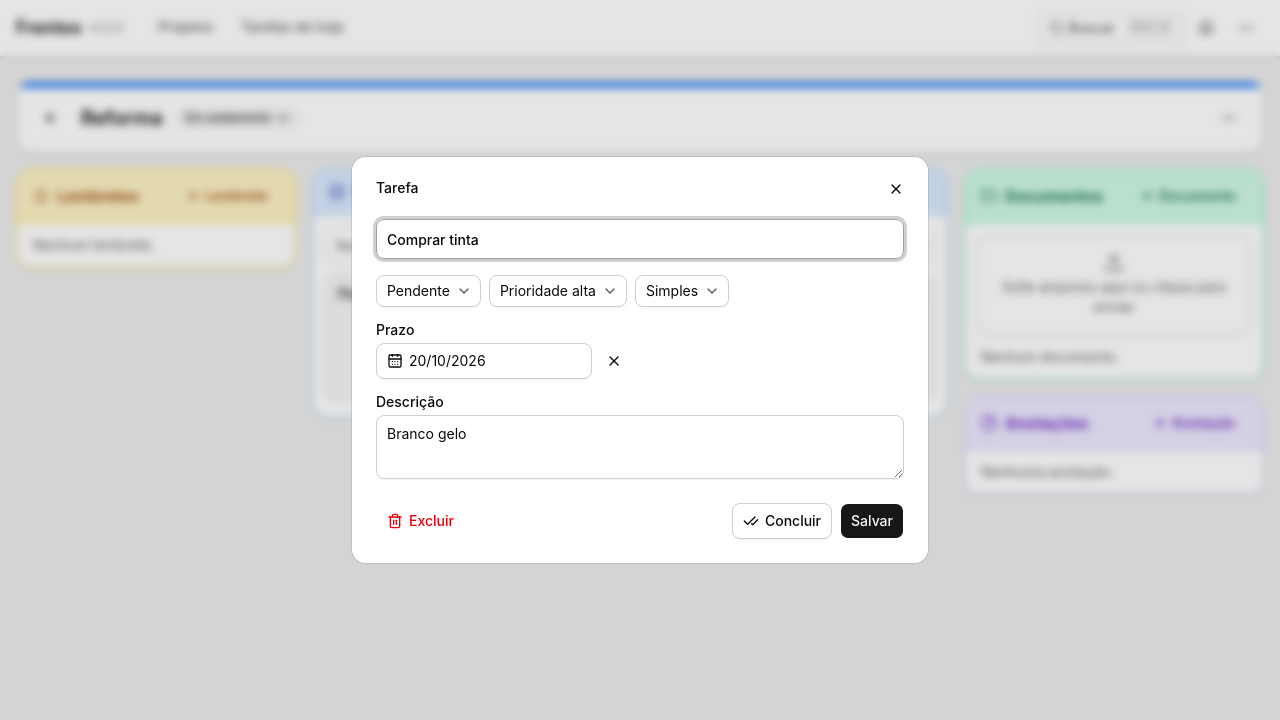
Test case: ModalTarefa (01 §4.5) › RN-20: título vazio mostra o erro e não envia; 422 da API vai para o campo
Clear the field named "Título": (640, 239) top-left (376, 219), bottom-right (904, 259)
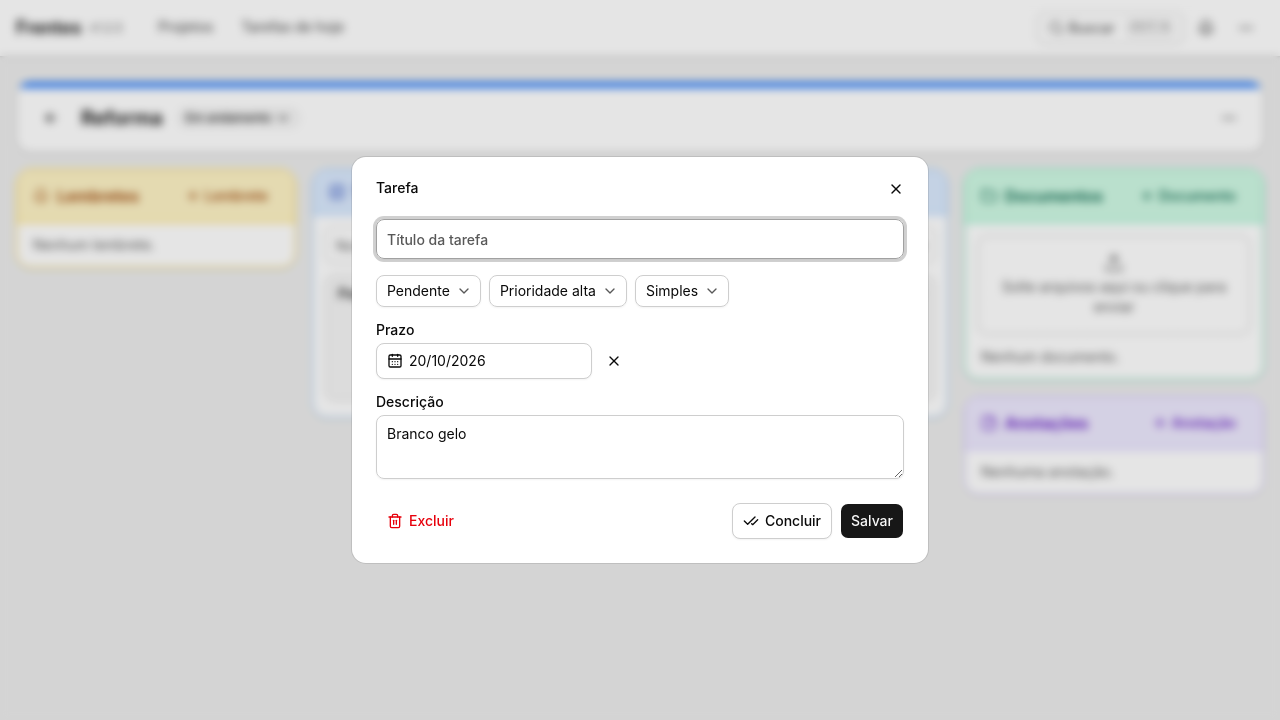
Click the button "Salvar": (872, 521) top-left (840, 503), bottom-right (904, 539)
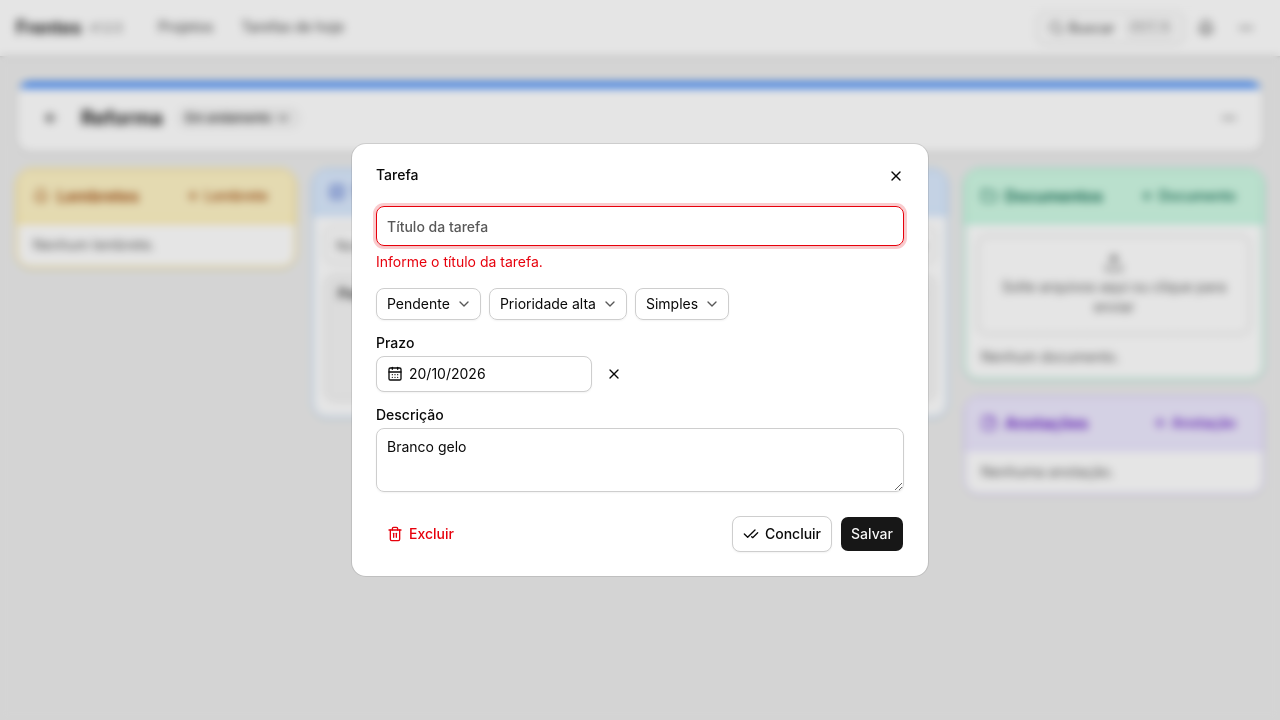
Now the text "Informe o título da tarefa." is shown, box top-left (376, 253), bottom-right (543, 270)
In the field labelled "Título": (640, 226) top-left (376, 206), bottom-right (904, 246), type "Outro"
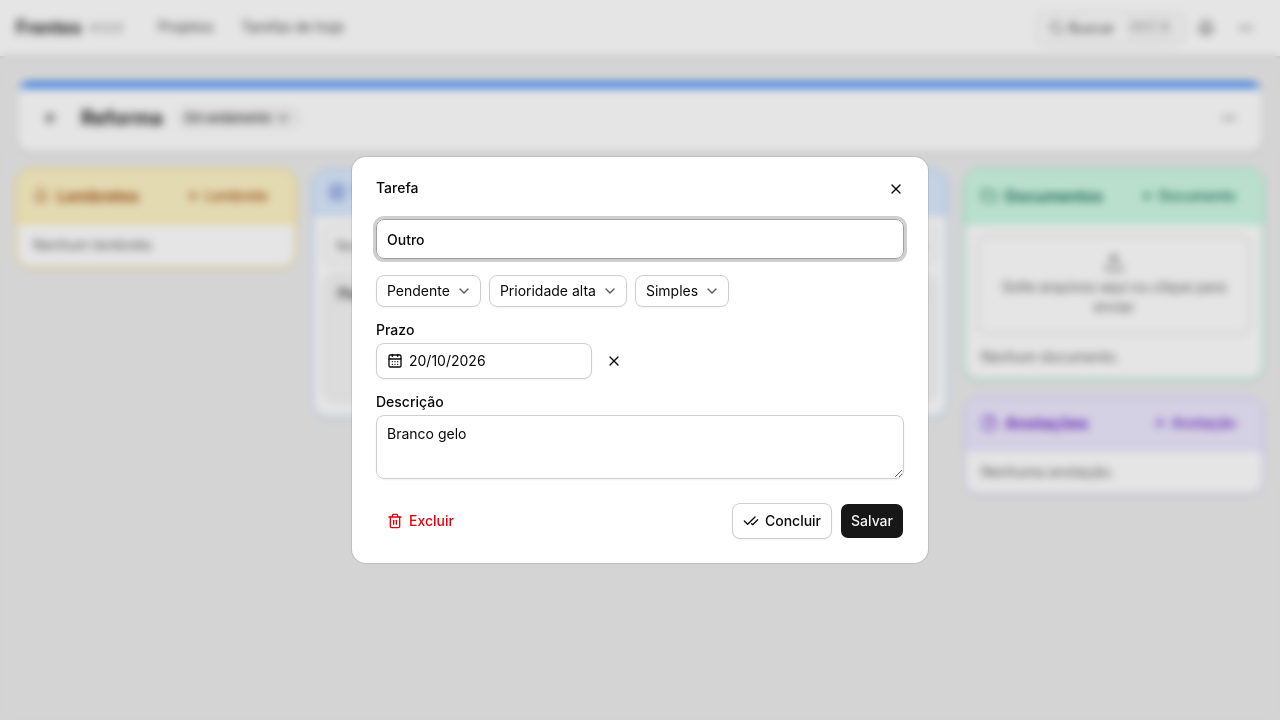
Click the button "Salvar": (872, 521) top-left (840, 503), bottom-right (904, 539)
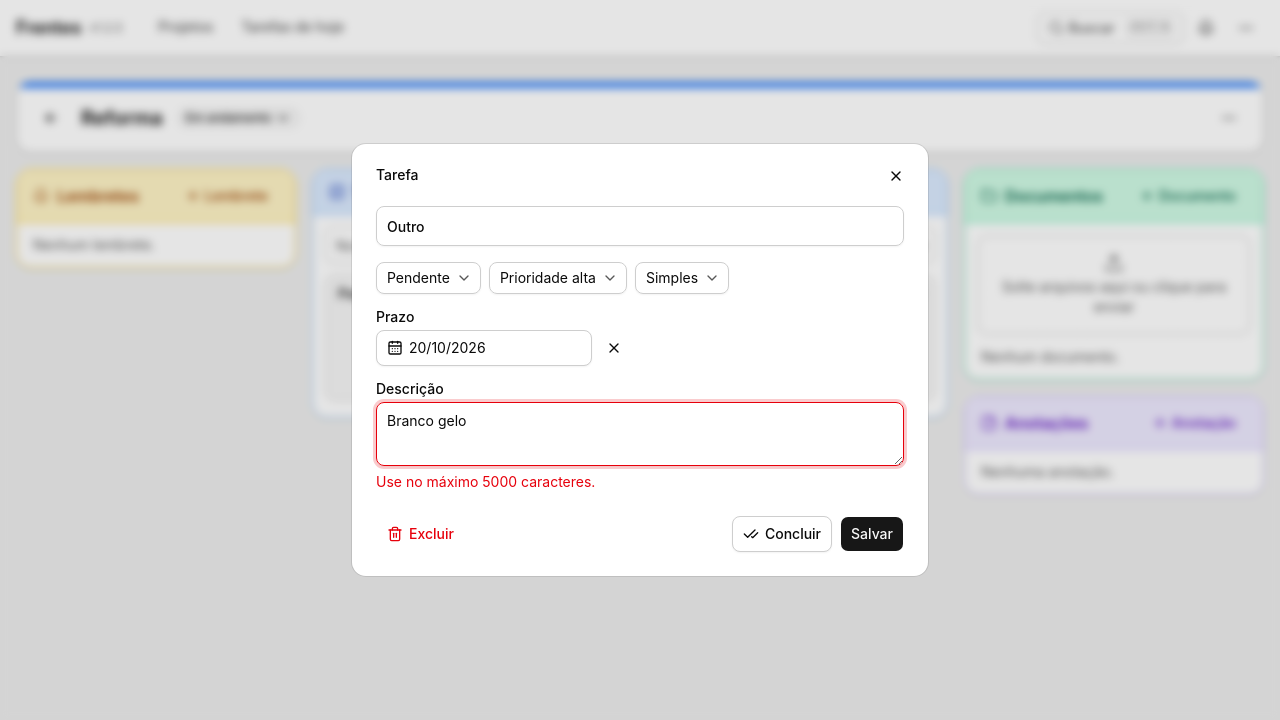
Expected: the dialog is shown, top-left (352, 144), bottom-right (928, 576)
Now the text "Use no máximo 5000 caracteres." is shown, box top-left (376, 473), bottom-right (595, 490)
